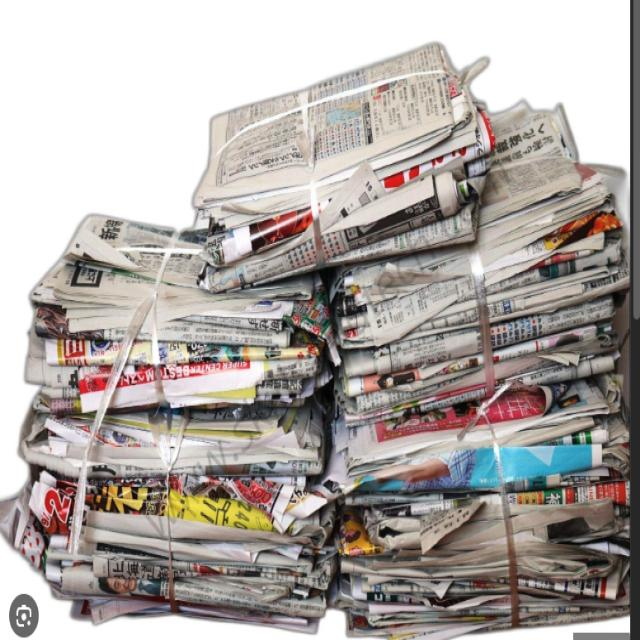Koran: (324, 102, 630, 624), (2, 218, 335, 636), (194, 46, 486, 290)
